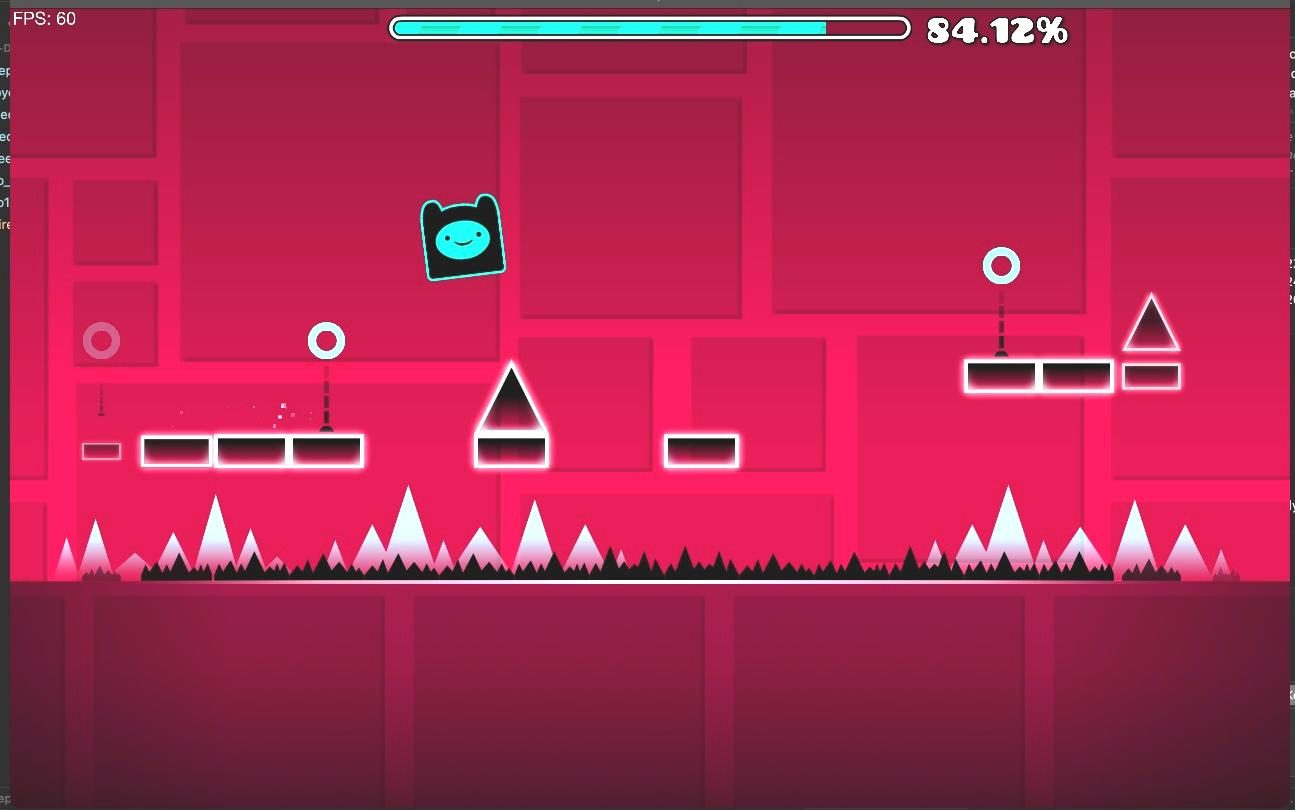platform: (144, 436, 365, 468), (963, 358, 1113, 393), (665, 434, 739, 468)
player: (421, 194, 505, 279)
spike: (664, 508, 1239, 582), (50, 504, 510, 581), (474, 362, 548, 467), (564, 527, 661, 578), (516, 511, 563, 577), (1126, 294, 1179, 351)
